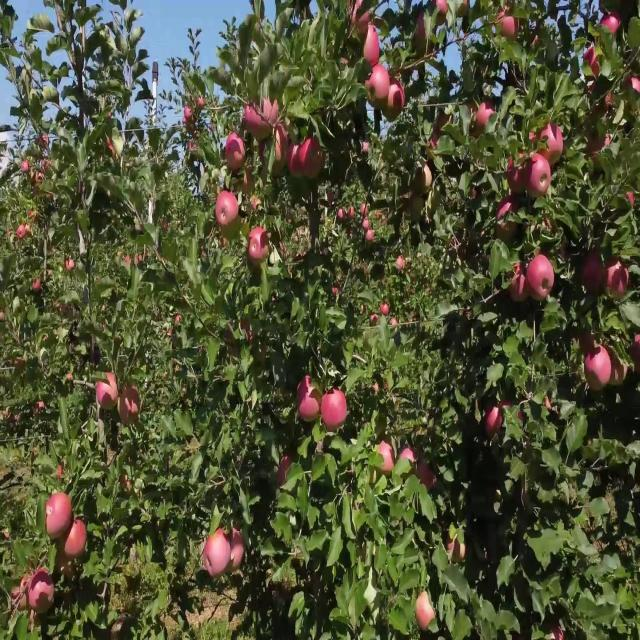apple: (244, 99, 280, 140), (528, 255, 556, 300), (536, 120, 564, 164), (584, 348, 611, 391), (496, 199, 521, 245), (368, 63, 391, 110), (32, 568, 56, 613), (204, 533, 229, 576), (584, 248, 606, 295), (48, 497, 72, 539), (300, 376, 321, 423), (324, 391, 348, 432), (528, 156, 552, 197), (304, 135, 325, 180), (228, 319, 255, 354), (244, 99, 267, 140), (508, 263, 530, 304), (64, 519, 88, 556), (216, 191, 240, 228), (120, 383, 140, 427), (416, 590, 436, 633), (260, 99, 280, 142), (608, 263, 631, 299), (248, 227, 271, 263), (588, 135, 612, 169), (588, 85, 612, 119), (508, 156, 527, 196), (96, 376, 119, 409), (12, 575, 32, 612), (352, 1, 373, 36), (228, 135, 247, 172), (400, 191, 425, 219), (228, 526, 244, 569), (476, 99, 496, 132), (484, 405, 504, 437), (276, 120, 292, 160), (388, 85, 406, 119), (416, 163, 434, 197), (584, 49, 601, 84), (56, 547, 75, 578), (588, 78, 603, 117), (276, 455, 293, 489), (364, 30, 380, 66), (380, 440, 396, 476), (288, 142, 304, 178), (264, 99, 280, 133), (408, 191, 426, 220), (625, 78, 640, 112), (432, 0, 450, 27), (576, 334, 598, 356), (600, 14, 621, 37), (448, 540, 468, 564), (600, 85, 615, 117), (420, 462, 436, 491), (624, 78, 640, 105), (240, 319, 255, 347), (504, 14, 519, 41), (612, 362, 628, 386), (400, 447, 417, 468), (272, 156, 286, 180), (632, 334, 640, 375), (184, 106, 196, 133), (496, 7, 511, 28), (244, 170, 256, 196), (544, 398, 559, 418), (604, 92, 615, 116), (120, 476, 132, 494), (548, 625, 564, 638), (624, 191, 636, 208), (376, 383, 389, 398), (108, 142, 117, 162), (56, 462, 65, 480), (252, 199, 263, 213), (500, 398, 513, 407), (36, 284, 41, 292)
